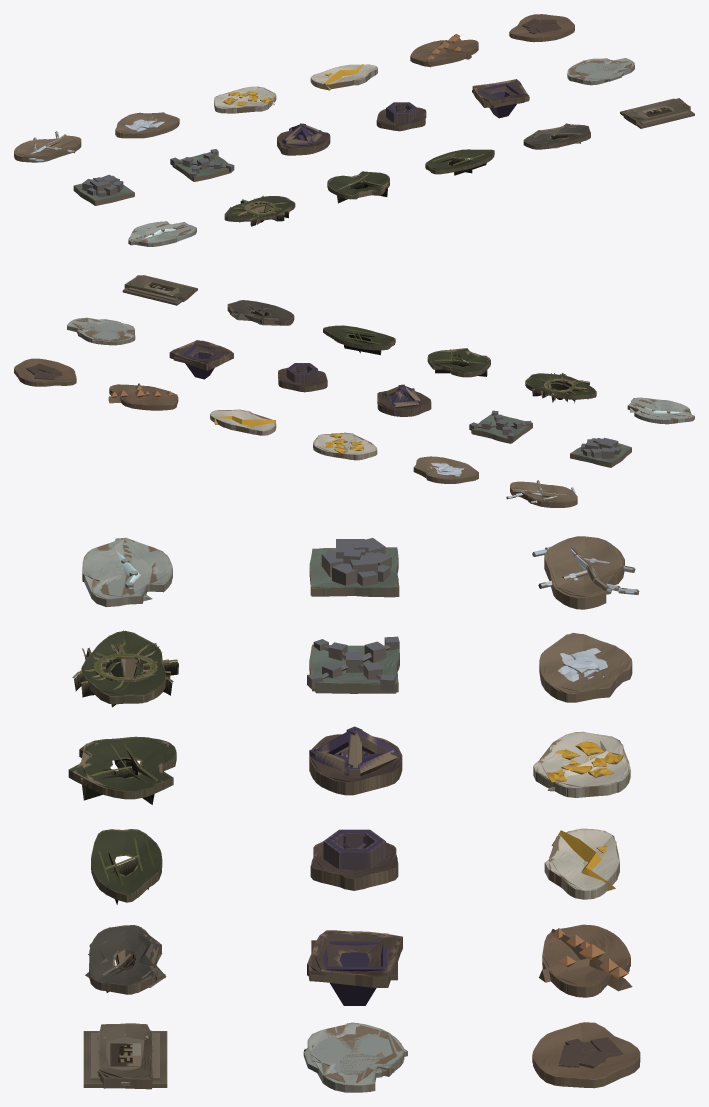
File: inclusion_kit.glb
The picture shows the model from 3 angles, top to bottom: view 1: azimuth 30°, elevation 25°; view 2: azimuth 150°, elevation 25°; view 3: azimuth 270°, elevation 25°; orthographic projection. The views are drawn at different scales.
Visible parts, largest first — view 1: LOD0_SF_INCL_IRON_SPECULAR_V1, LOD0_SF_INCL_MK_LOCK_PLATE_V1, LOD0_SF_INCL_IRON_CHIP_RIDGE_V1, LOD0_SF_INCL_EXOTIC_PRISMATIC_TRUSS_V1, LOD0_SF_INCL_NICKEL_CUBIC_V1, LOD0_SF_INCL_ICE_SHEEN_PLATE_V1, LOD0_SF_INCL_NICKEL_DENDRITE_V1, LOD0_SF_INCL_GOLD_LEAF_V1, LOD0_SF_INCL_GAS_FISSURE_SHEAR_V1, LOD0_SF_INCL_EXOTIC_HOPPER_CUBE_V1, LOD0_SF_INCL_GAS_FISSURE_RADIAL_V1, LOD0_SF_INCL_SILVER_SHEET_V1 (+29 smaller); view 2: LOD0_SF_INCL_IRON_CHIP_RIDGE_V1, LOD0_SF_INCL_ICE_SHEEN_PLATE_V1, LOD0_SF_INCL_IRON_SPECULAR_V1, LOD0_SF_INCL_MK_LOCK_PLATE_V1, LOD0_SF_INCL_NICKEL_CUBIC_V1, LOD0_SF_INCL_EXOTIC_HOPPER_CUBE_V1, LOD0_SF_INCL_NICKEL_DENDRITE_V1, LOD0_SF_INCL_EXOTIC_PRISMATIC_TRUSS_V1, LOD0_SF_INCL_GAS_FISSURE_SHEAR_V1, LOD0_SF_INCL_GOLD_LEAF_V1, LOD0_SF_INCL_GAS_FISSURE_BRANCH_V1, LOD2_SF_INCL_GAS_FISSURE_RADIAL_V1 (+30 smaller); view 3: LOD0_SF_INCL_NICKEL_CUBIC_V1, LOD0_SF_INCL_IRON_CHIP_RIDGE_V1, LOD0_SF_INCL_NICKEL_DENDRITE_V1, LOD0_SF_INCL_MK_LOCK_PLATE_V1, LOD0_SF_INCL_IRON_SPECULAR_V1, LOD2_SF_INCL_EXOTIC_OCTAHEDRAL_CAGE_V1, LOD0_SF_INCL_EXOTIC_PRISMATIC_TRUSS_V1, LOD0_SF_INCL_GOLD_LEAF_V1, LOD0_SF_INCL_ICE_SHEEN_PLATE_V1, LOD0_SF_INCL_EXOTIC_HOPPER_CUBE_V1, LOD2_SF_INCL_GAS_FISSURE_RADIAL_V1, LOD0_SF_INCL_GAS_FISSURE_RADIAL_V1 (+36 smaller).
Boxes of the visible parts, x1,y1,x2,y2 form: LOD0_SF_INCL_IRON_SPECULAR_V1: (509, 14, 574, 41); LOD0_SF_INCL_MK_LOCK_PLATE_V1: (620, 98, 694, 128); LOD0_SF_INCL_IRON_CHIP_RIDGE_V1: (410, 34, 478, 67); LOD0_SF_INCL_EXOTIC_PRISMATIC_TRUSS_V1: (376, 102, 426, 131); LOD0_SF_INCL_NICKEL_CUBIC_V1: (74, 174, 133, 203); LOD0_SF_INCL_ICE_SHEEN_PLATE_V1: (567, 58, 634, 85); LOD0_SF_INCL_NICKEL_DENDRITE_V1: (170, 149, 234, 181); LOD0_SF_INCL_GOLD_LEAF_V1: (214, 86, 276, 113); LOD0_SF_INCL_GAS_FISSURE_SHEAR_V1: (425, 149, 494, 175); LOD0_SF_INCL_EXOTIC_HOPPER_CUBE_V1: (472, 79, 529, 118); LOD0_SF_INCL_GAS_FISSURE_RADIAL_V1: (224, 195, 294, 226); LOD0_SF_INCL_SILVER_SHEET_V1: (115, 112, 179, 138); LOD0_SF_INCL_IRON_CHIP_RIDGE_V1: (108, 383, 178, 410); LOD0_SF_INCL_ICE_SHEEN_PLATE_V1: (67, 318, 135, 345); LOD0_SF_INCL_IRON_SPECULAR_V1: (14, 358, 76, 386); LOD0_SF_INCL_MK_LOCK_PLATE_V1: (122, 275, 197, 305); LOD0_SF_INCL_NICKEL_CUBIC_V1: (572, 437, 630, 467); LOD0_SF_INCL_EXOTIC_HOPPER_CUBE_V1: (169, 340, 233, 379); LOD0_SF_INCL_NICKEL_DENDRITE_V1: (469, 410, 532, 443); LOD0_SF_INCL_EXOTIC_PRISMATIC_TRUSS_V1: (278, 363, 327, 392); LOD0_SF_INCL_GAS_FISSURE_SHEAR_V1: (323, 325, 395, 355); LOD0_SF_INCL_GOLD_LEAF_V1: (313, 433, 377, 460); LOD0_SF_INCL_GAS_FISSURE_BRANCH_V1: (427, 348, 490, 377); LOD2_SF_INCL_GAS_FISSURE_RADIAL_V1: (528, 374, 596, 400); LOD0_SF_INCL_NICKEL_CUBIC_V1: (309, 538, 398, 597); LOD0_SF_INCL_IRON_CHIP_RIDGE_V1: (539, 924, 632, 997); LOD0_SF_INCL_NICKEL_DENDRITE_V1: (307, 636, 399, 693); LOD0_SF_INCL_MK_LOCK_PLATE_V1: (83, 1023, 167, 1089); LOD0_SF_INCL_IRON_SPECULAR_V1: (533, 1022, 640, 1088); LOD2_SF_INCL_EXOTIC_OCTAHEDRAL_CAGE_V1: (309, 727, 401, 794); LOD0_SF_INCL_EXOTIC_PRISMATIC_TRUSS_V1: (311, 829, 398, 890); LOD0_SF_INCL_GOLD_LEAF_V1: (533, 731, 630, 797); LOD0_SF_INCL_ICE_SHEEN_PLATE_V1: (303, 1022, 407, 1092); LOD0_SF_INCL_EXOTIC_HOPPER_CUBE_V1: (308, 930, 402, 1005); LOD2_SF_INCL_GAS_FISSURE_RADIAL_V1: (80, 630, 170, 697); LOD0_SF_INCL_GAS_FISSURE_RADIAL_V1: (72, 630, 178, 707).
Bounding box in the file's own units: 12.45 × 0.8298 × 5.49.
Materials: 1 (1 with a texture image).
